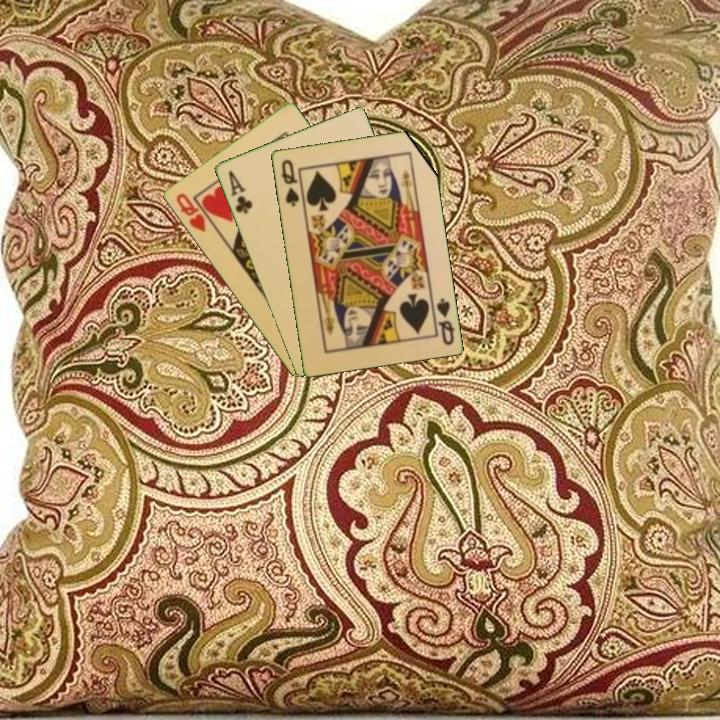Ac: (224, 166, 255, 217)
Qh: (172, 189, 209, 235)
Qs: (428, 294, 457, 348), (277, 156, 302, 209)
